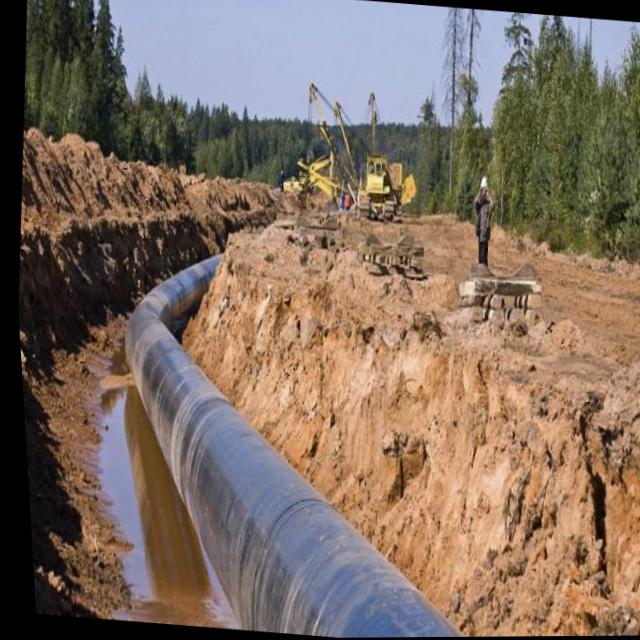leak: (99, 385, 237, 626)
